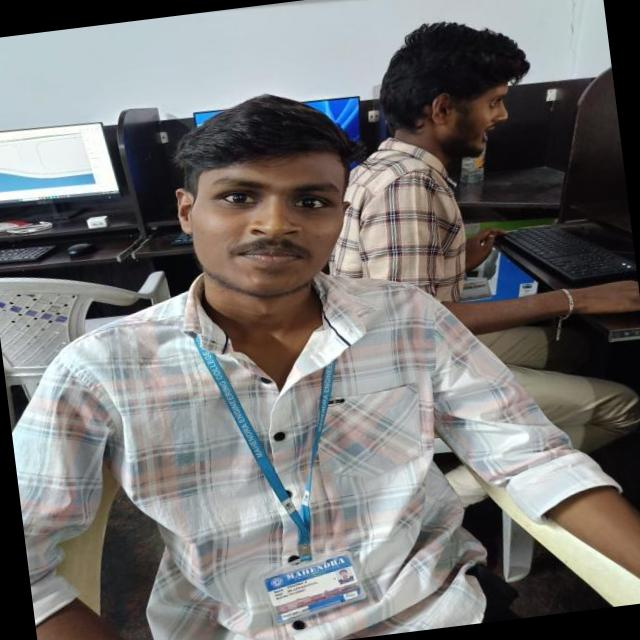id_card: (192, 308, 382, 624)
